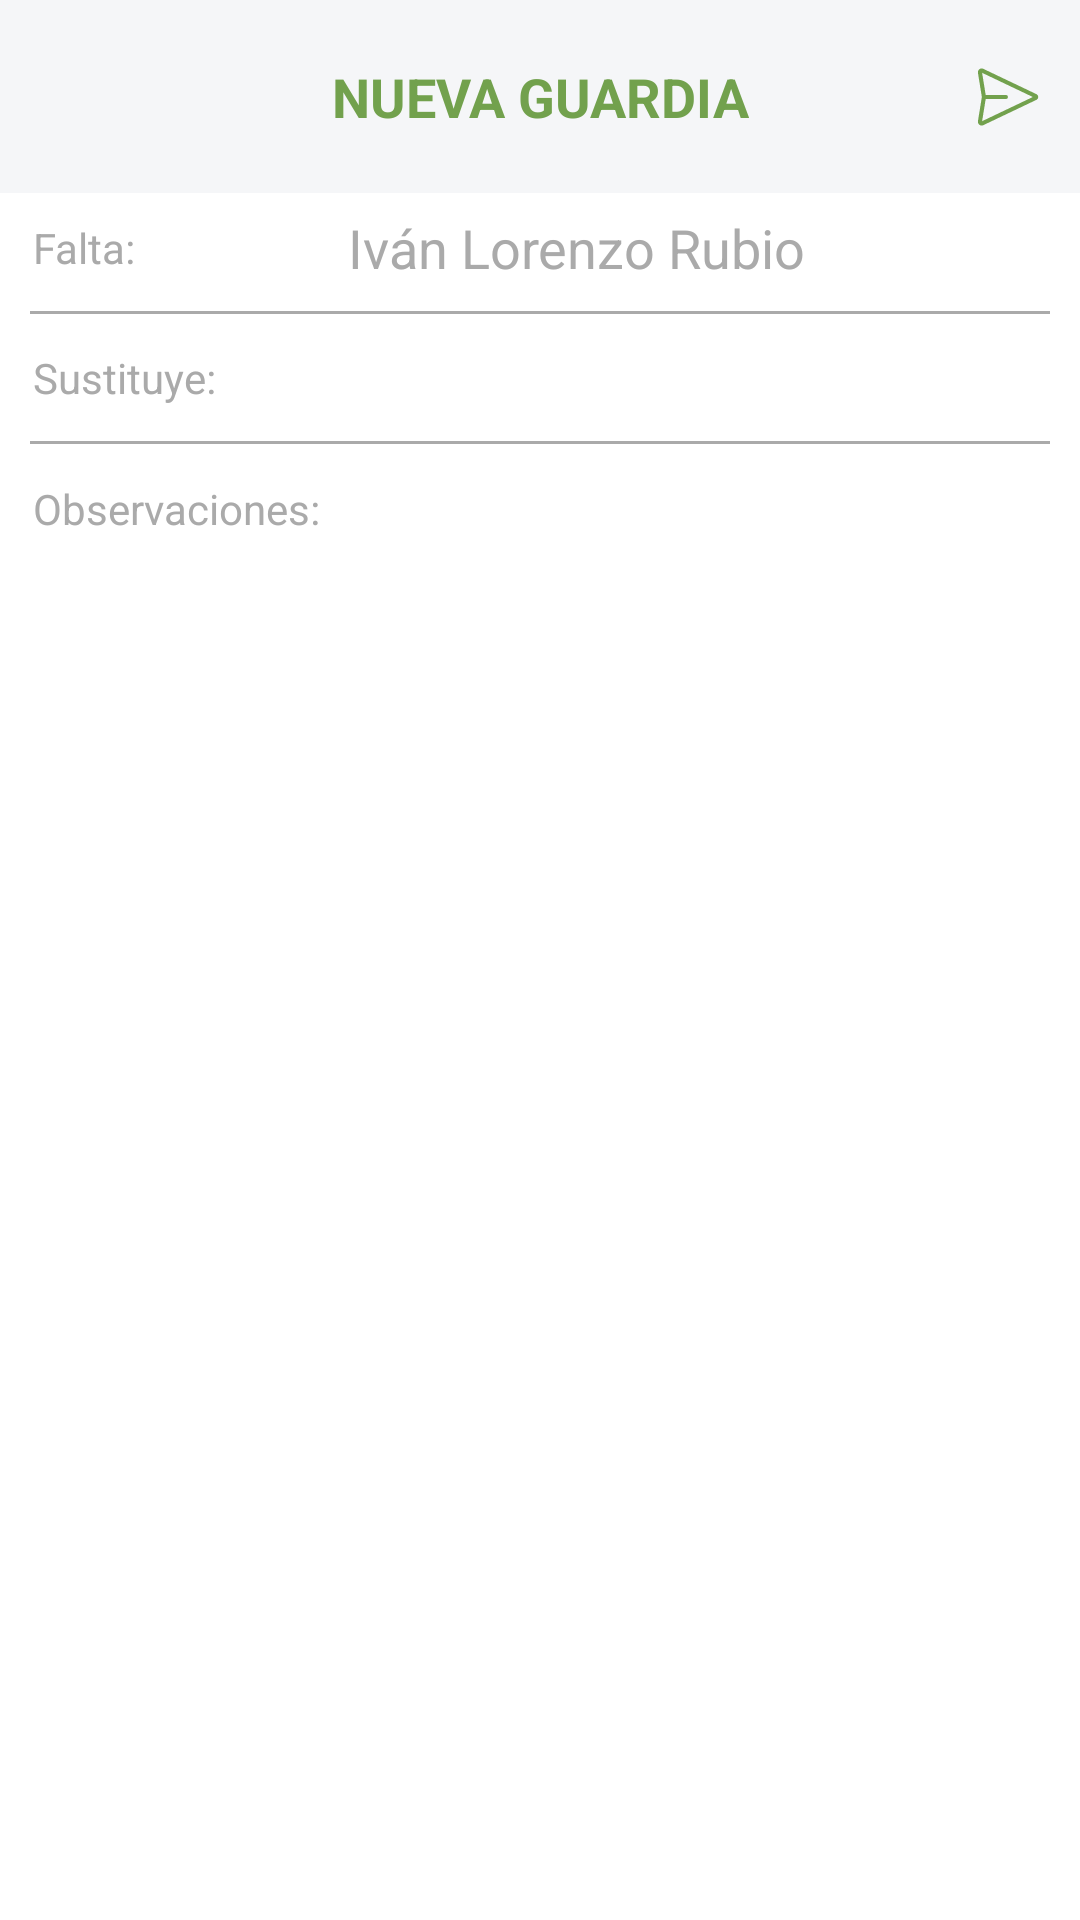

Named icons in this screenshot (1080px x 1920px) and their bounding boxes, bbox=(x1, y1, x2, y2):
paper airplane: bbox=(978, 68, 1038, 126)
